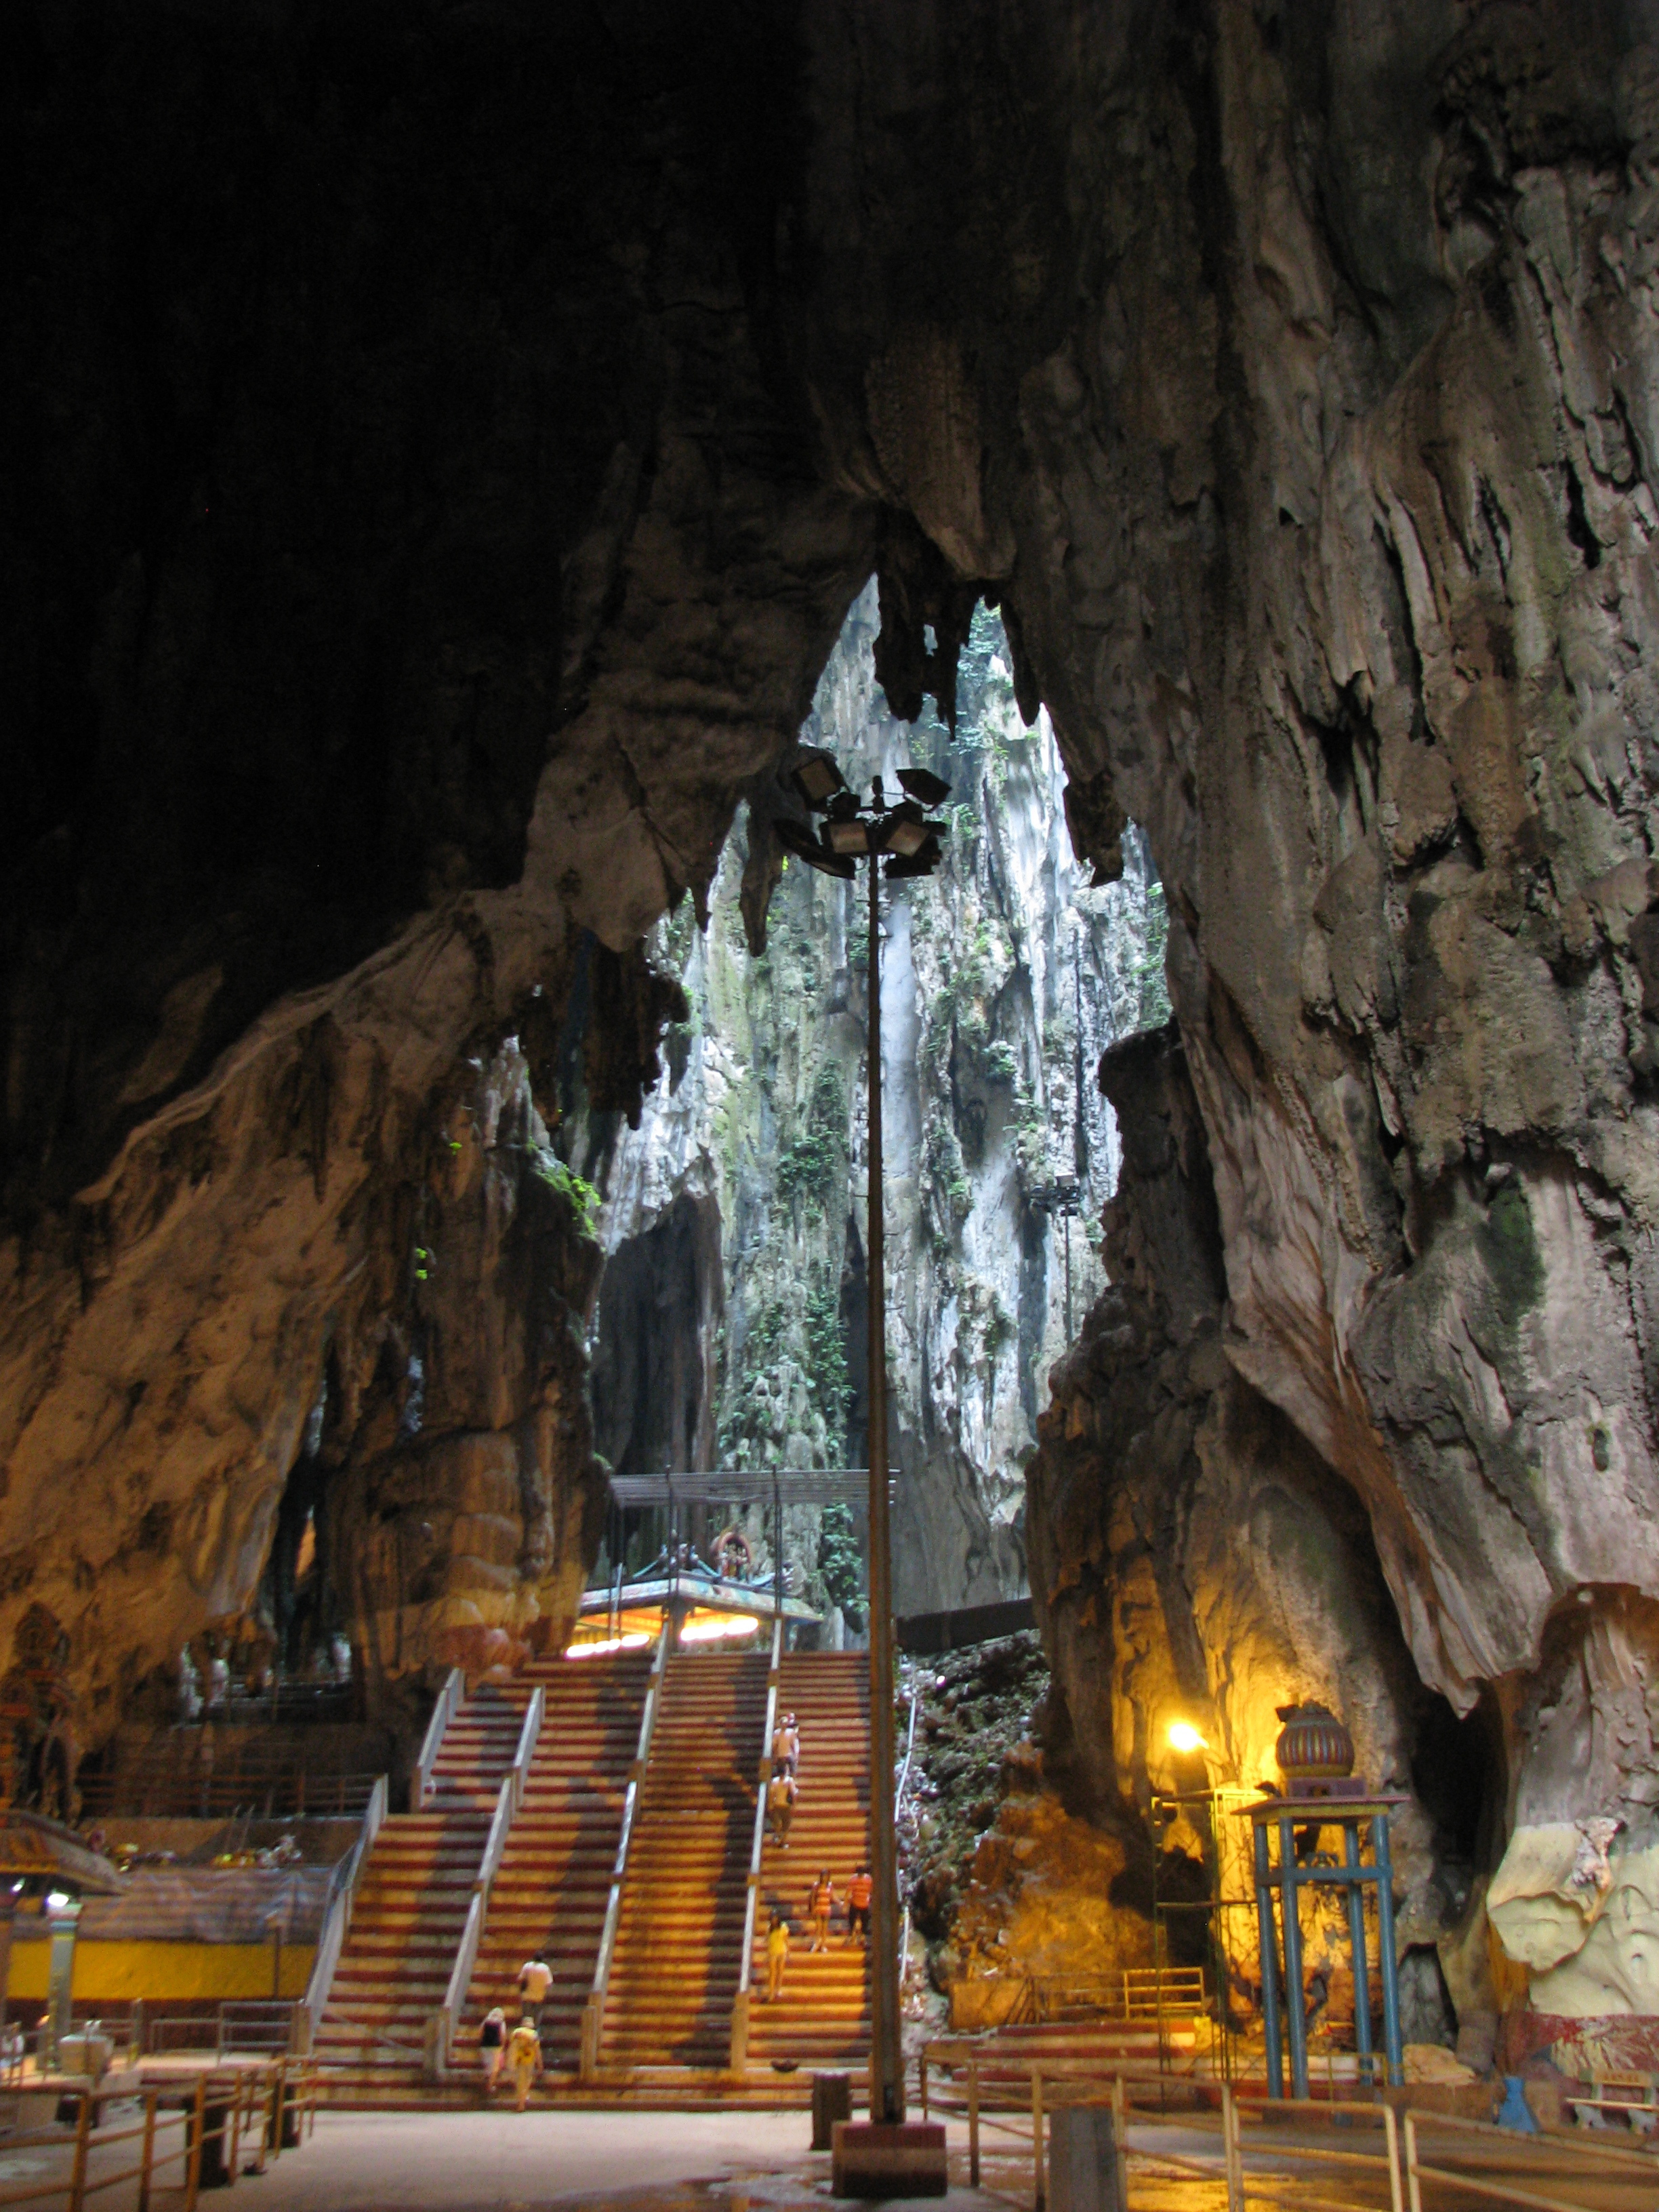Hindu Temple: (1220, 1710, 1417, 2087)
